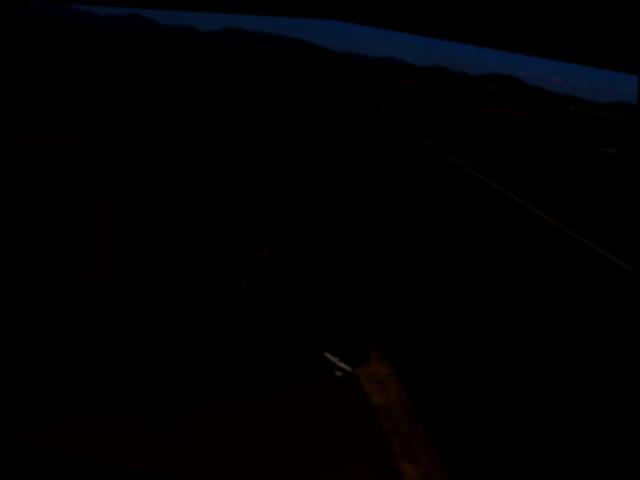uav: (316, 336, 363, 383)
